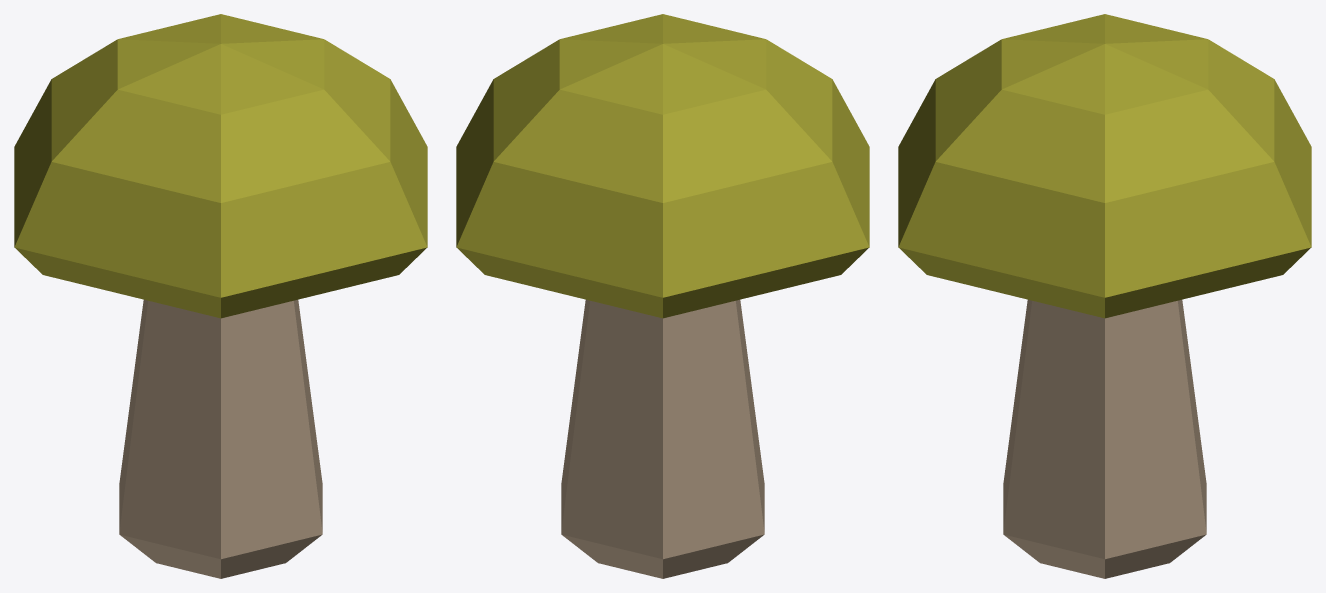
The model's file is mushroom2.fbx.
3 renders of one model, left to right at view 1: azimuth 30°, elevation 25°; view 2: azimuth 150°, elevation 25°; view 3: azimuth 270°, elevation 25°, orthographic.
Parts seen in each view (by area): view 1: mushroom2; view 2: mushroom2; view 3: mushroom2.
Part boxes in pixels (box(x1,y1,x2,y2)): mushroom2: box(14, 14, 427, 578); mushroom2: box(456, 14, 869, 578); mushroom2: box(898, 14, 1311, 578).
Bounding box in the file's own units: 11.27 × 13.13 × 9.76.
